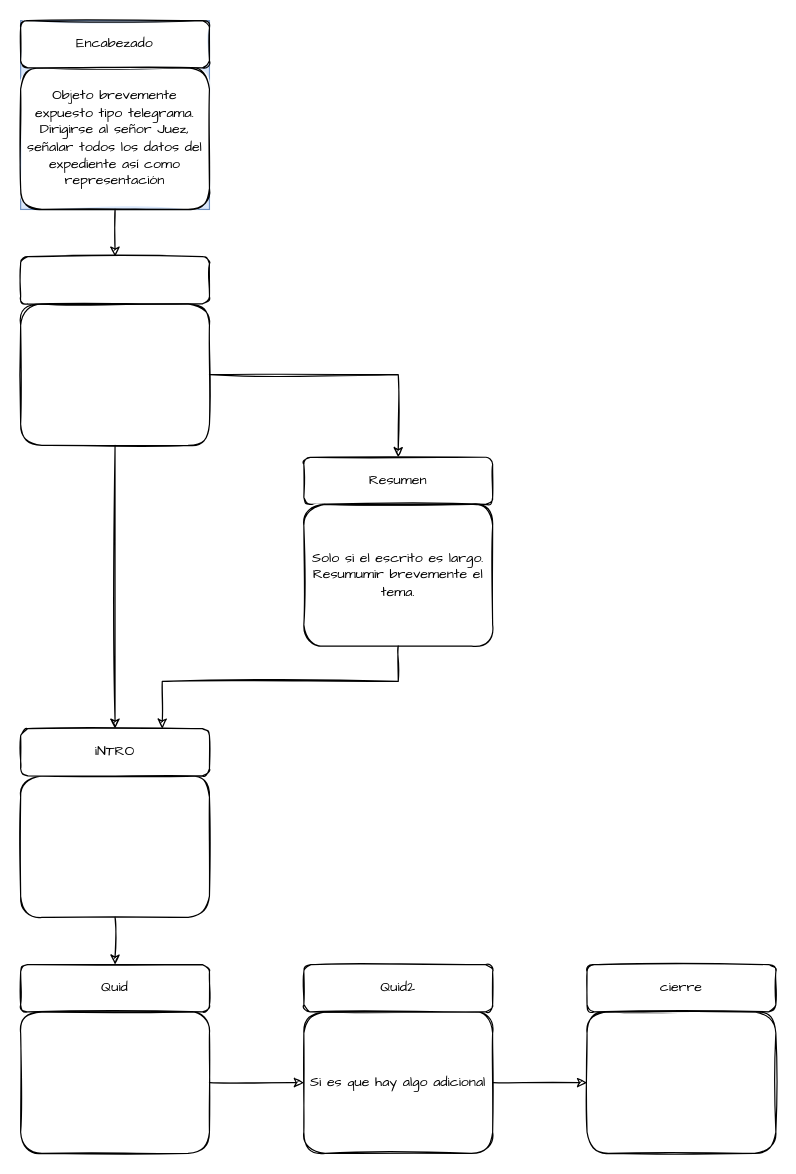
Some shapes in this 796 by 1174 pixel diagram are drawn without their labels. Here are the shapes that lost their labels. From the top down, the centre of each, then its label:
point 114,279: Objeto
point 114,374: Objeto explicado en detalle: Vengo a: a, c...
point 114,846: Temas que hacen al asunto pero no lo definen
point 114,1082: El asunto. Puede tener varios capitulos
point 681,1082: a..Conclusión b.Pruebas c.Derechos d.Petitorio
